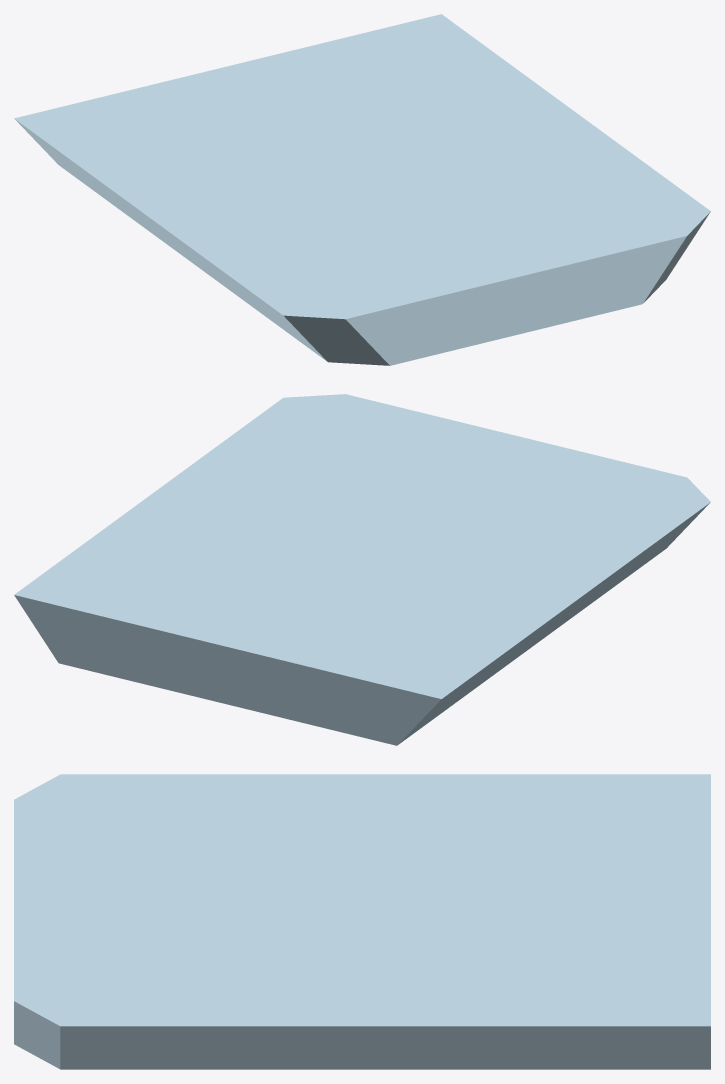
File: STAM - M2-1.gltf
The picture shows the model from 3 angles, top to bottom: view 1: azimuth 30°, elevation 25°; view 2: azimuth 150°, elevation 25°; view 3: azimuth 270°, elevation 25°; orthographic projection. The views are drawn at different scales.
Parts seen in each view (by area): view 1: M2-1; view 2: M2-1; view 3: M2-1.
Boxes of the visible parts, x1=… form: M2-1: x1=14, y1=14, x2=710, y2=365; M2-1: x1=14, y1=394, x2=710, y2=745; M2-1: x1=14, y1=774, x2=710, y2=1069.
Bounding box in the file's own units: 0.0128 × 0.00165 × 0.015.
